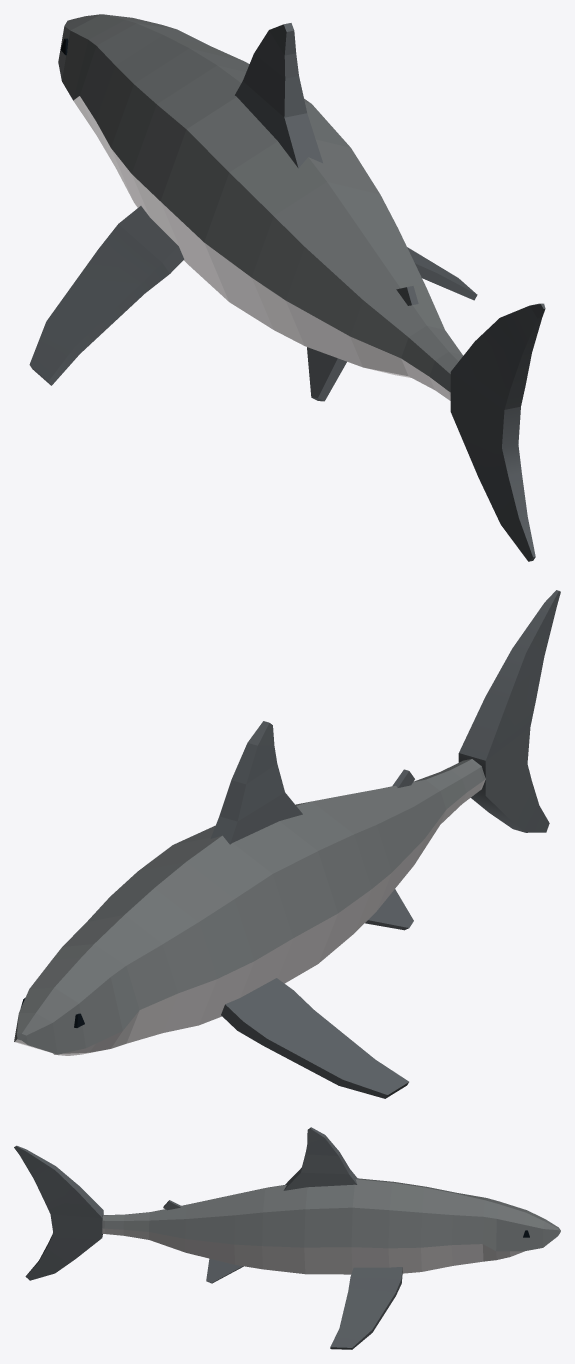
Rendered from shark_animation_v001.fbx.
3 views of the same model, one above another, from view 1: azimuth 30°, elevation 25°; view 2: azimuth 150°, elevation 25°; view 3: azimuth 270°, elevation 25° (orthographic). The views are drawn at different scales.
Parts seen in each view (by area): view 1: shark_anim; view 2: shark_anim; view 3: shark_anim.
Part boxes in pixels (x1,y1,x2,y2): shark_anim: (29, 14, 545, 561); shark_anim: (14, 590, 560, 1098); shark_anim: (14, 1127, 560, 1349).
Bounding box in the file's own units: 0.7984 × 0.6299 × 1.83.
